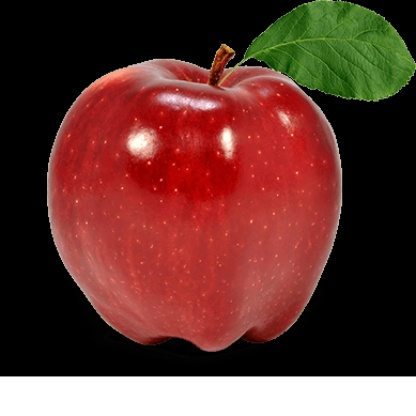tao: (46, 45, 346, 351)
